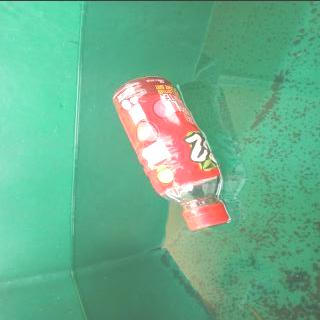bottle: (112, 75, 234, 232)
